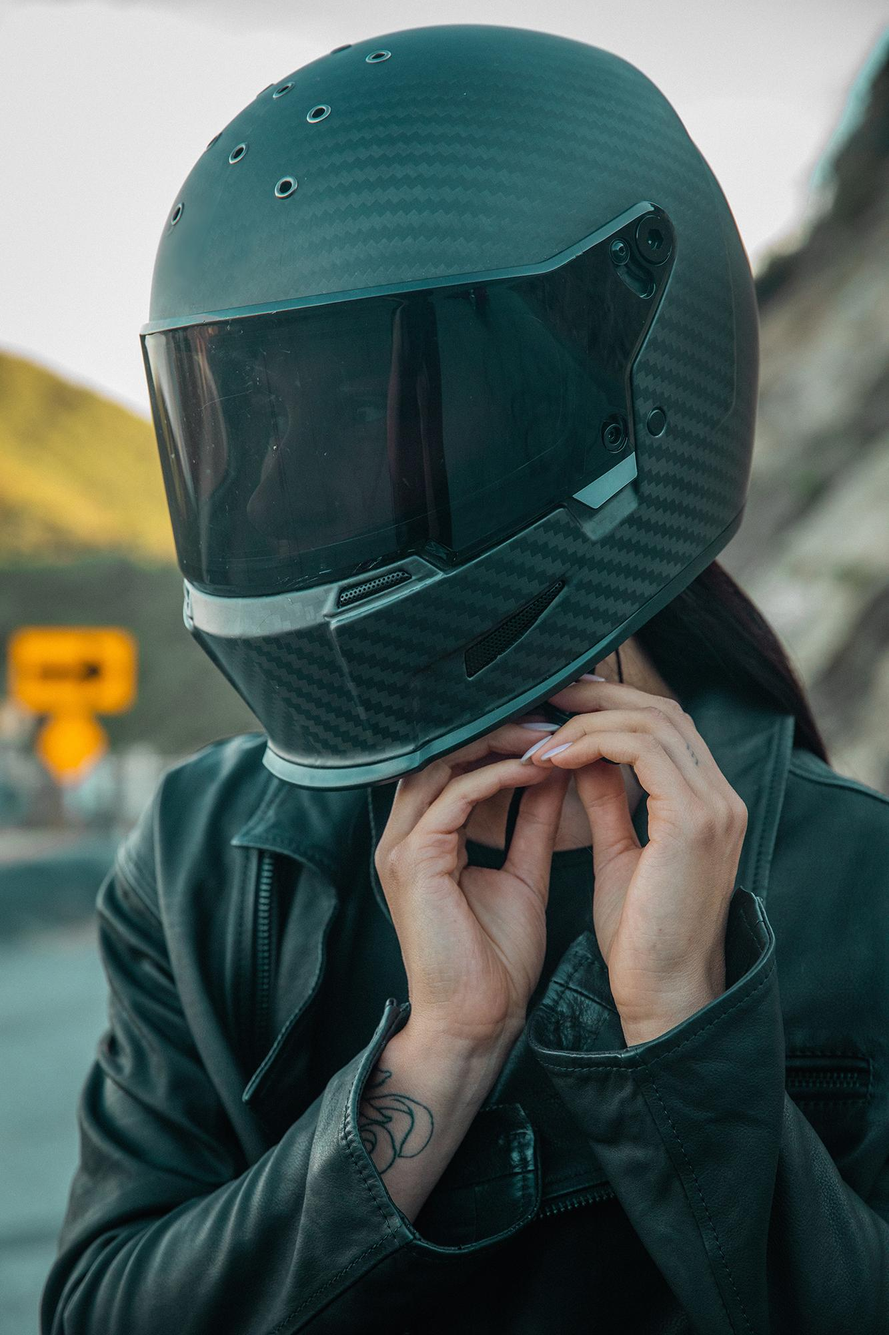helmet: (136, 19, 765, 796)
